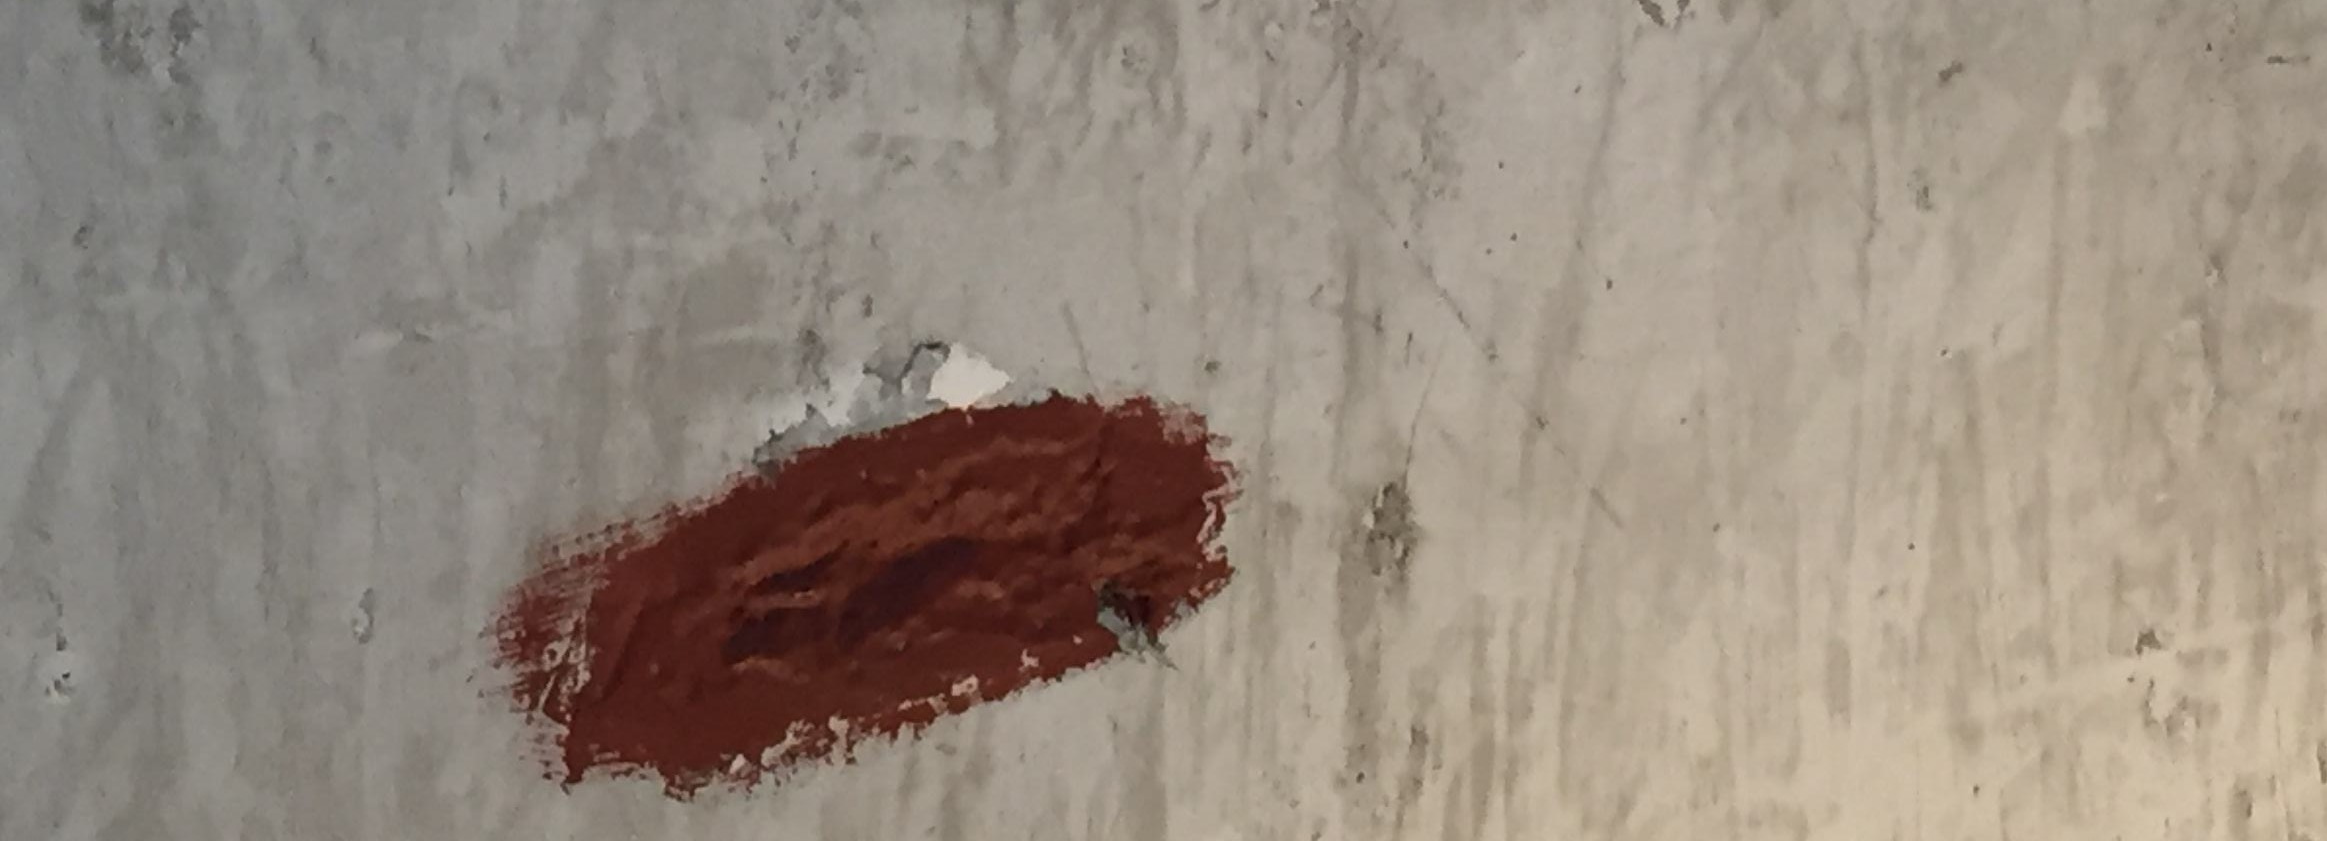Corrosion: (472, 386, 1244, 802)
